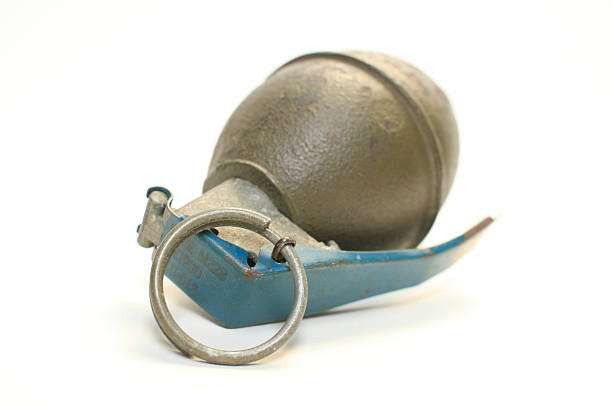e1: (139, 50, 490, 362)
